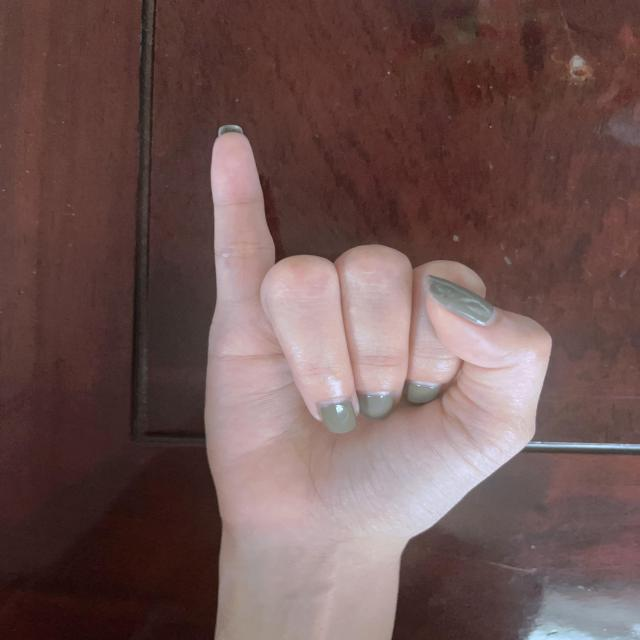I: (206, 119, 556, 531)
